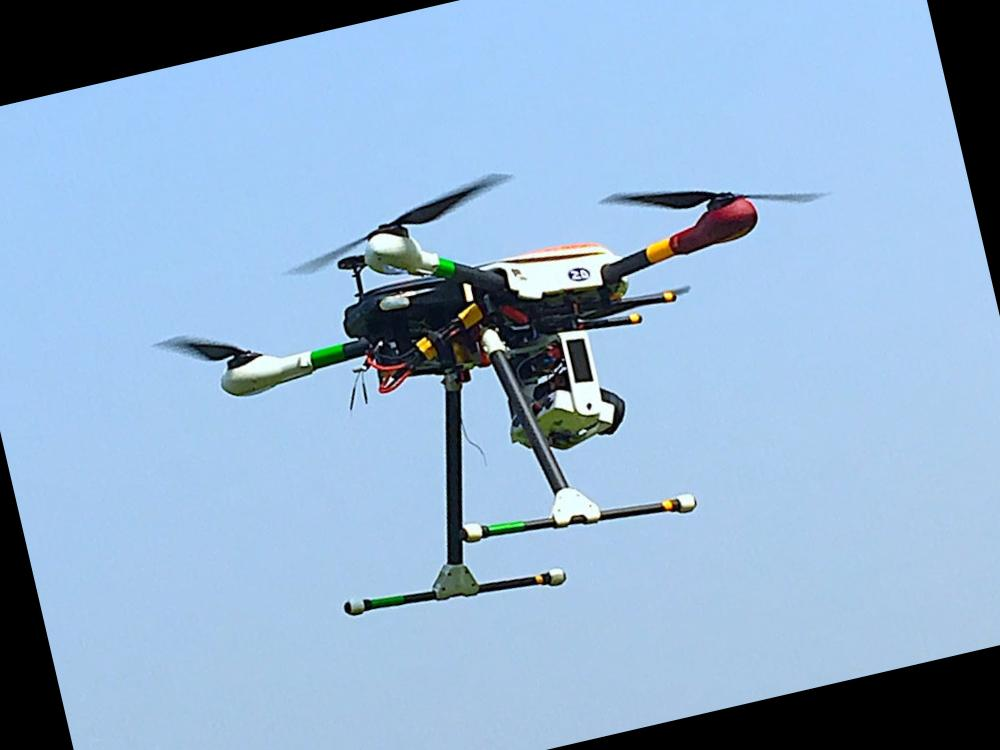drone: (113, 116, 856, 491)
